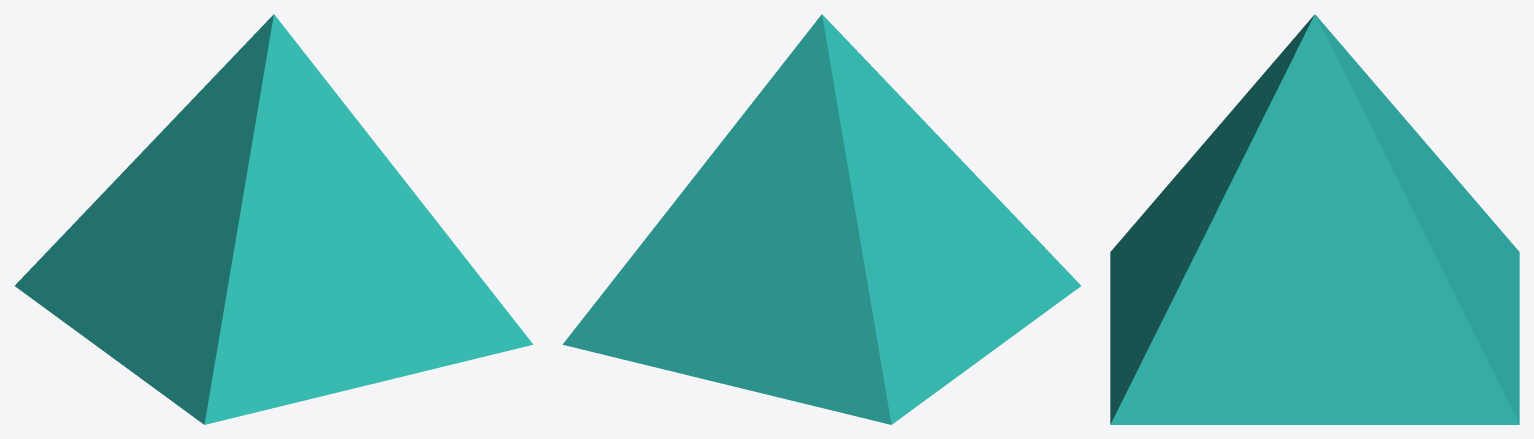
The model's file is square-pyramid-lite.glb.
3 renders of one model, left to right at view 1: azimuth 30°, elevation 25°; view 2: azimuth 150°, elevation 25°; view 3: azimuth 270°, elevation 25°, orthographic. The views are drawn at different scales.
Parts seen in each view (by area): view 1: Square pyramid; view 2: Square pyramid; view 3: Square pyramid.
Part boxes in pixels (bbox=[...]): Square pyramid: bbox=[15, 14, 532, 424]; Square pyramid: bbox=[563, 14, 1080, 424]; Square pyramid: bbox=[1110, 14, 1519, 424].
Size of the model in its own units: 1.6 by 1.4 by 1.6.
